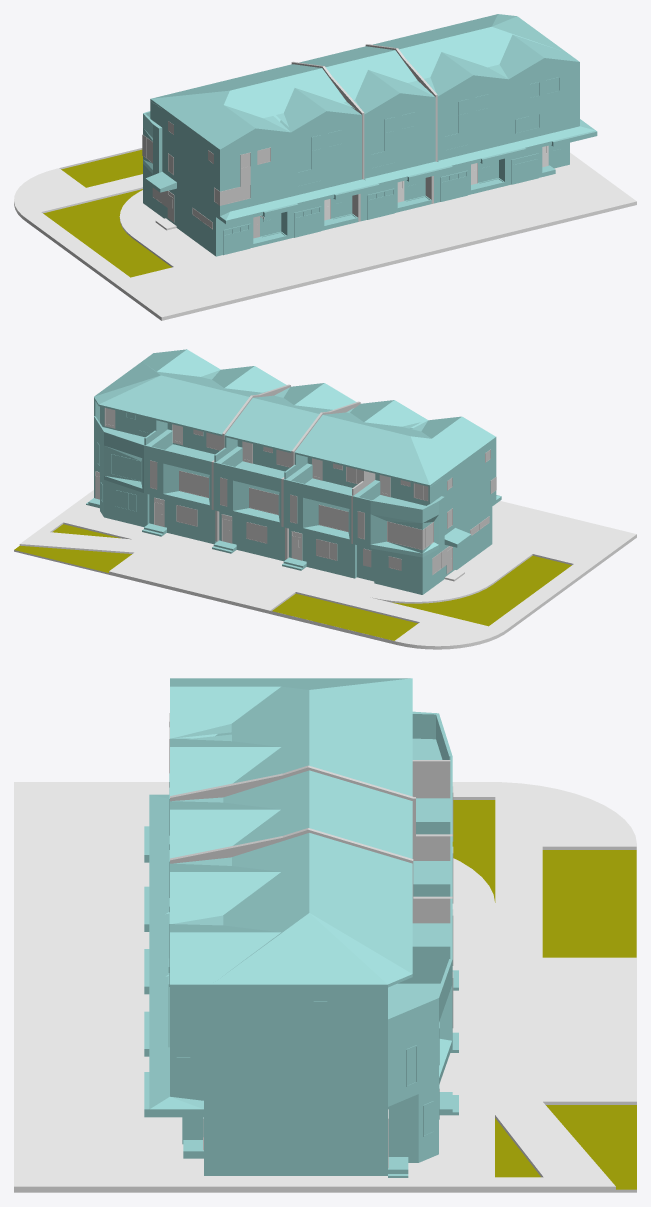
File: windsor_cyan_clean.glb
The picture shows the model from 3 angles, top to bottom: view 1: azimuth 30°, elevation 25°; view 2: azimuth 150°, elevation 25°; view 3: azimuth 270°, elevation 25°; orthographic projection. The views are drawn at different scales.
Parts seen in each view (by area): view 1: Geom3D_ (×13), Geom3D (×2), Geom3D_Component#75 (×5), Geom3D_Component#76, Geom3D_Component#79; view 2: Geom3D_ (×11), Geom3D (×2), Geom3D_Component#75 (×5), Geom3D_Component#76, Geom3D_Component#79; view 3: Geom3D (×3), Geom3D_ (×7), Geom3D_Component#75 (×5), Geom3D_Component#76, Geom3D_Component#79.
Boxes of the visible parts, x1=… form: Geom3D_ (×13): x1=143, y1=14, x2=597, y2=256; Geom3D (×2): x1=14, y1=148, x2=636, y2=320; Geom3D_Component#75 (×5): x1=186, y1=34, x2=579, y2=151; Geom3D_Component#76: x1=291, y1=61, x2=364, y2=221; Geom3D_Component#79: x1=365, y1=44, x2=437, y2=203; Geom3D_ (×11): x1=94, y1=362, x2=501, y2=594; Geom3D (×2): x1=14, y1=490, x2=636, y2=649; Geom3D_Component#75 (×5): x1=142, y1=349, x2=496, y2=461; Geom3D_Component#76: x1=281, y1=401, x2=360, y2=559; Geom3D_Component#79: x1=211, y1=384, x2=290, y2=541; Geom3D (×3): x1=14, y1=760, x2=636, y2=1192; Geom3D_ (×7): x1=144, y1=678, x2=452, y2=1175; Geom3D_Component#75 (×5): x1=170, y1=678, x2=286, y2=987; Geom3D_Component#76: x1=170, y1=765, x2=452, y2=860; Geom3D_Component#79: x1=170, y1=828, x2=452, y2=923.
Bounding box in the file's own units: 42.82 × 11.42 × 27.87.
